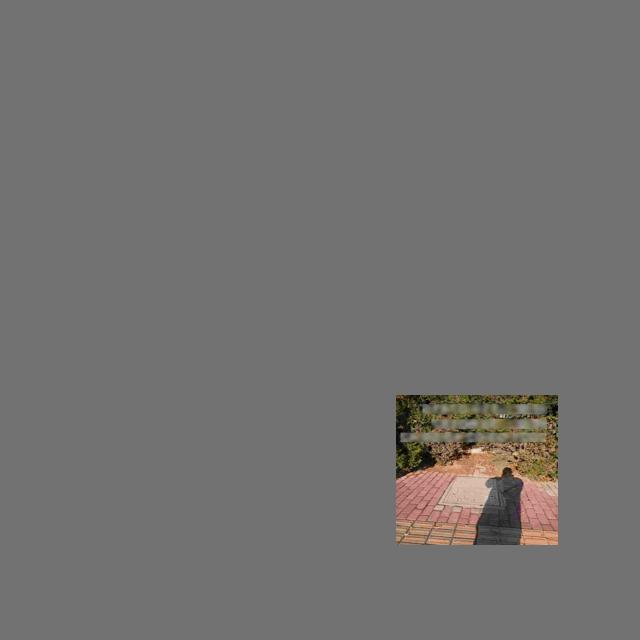good: (438, 475, 504, 508)
